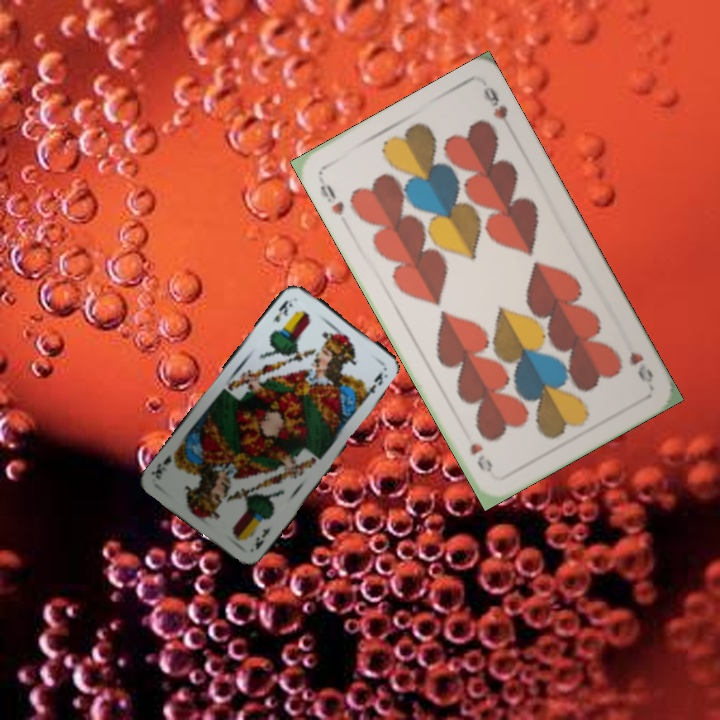EK: (270, 296, 296, 325), (251, 523, 273, 552)
H9: (625, 347, 656, 385), (316, 180, 347, 218)
